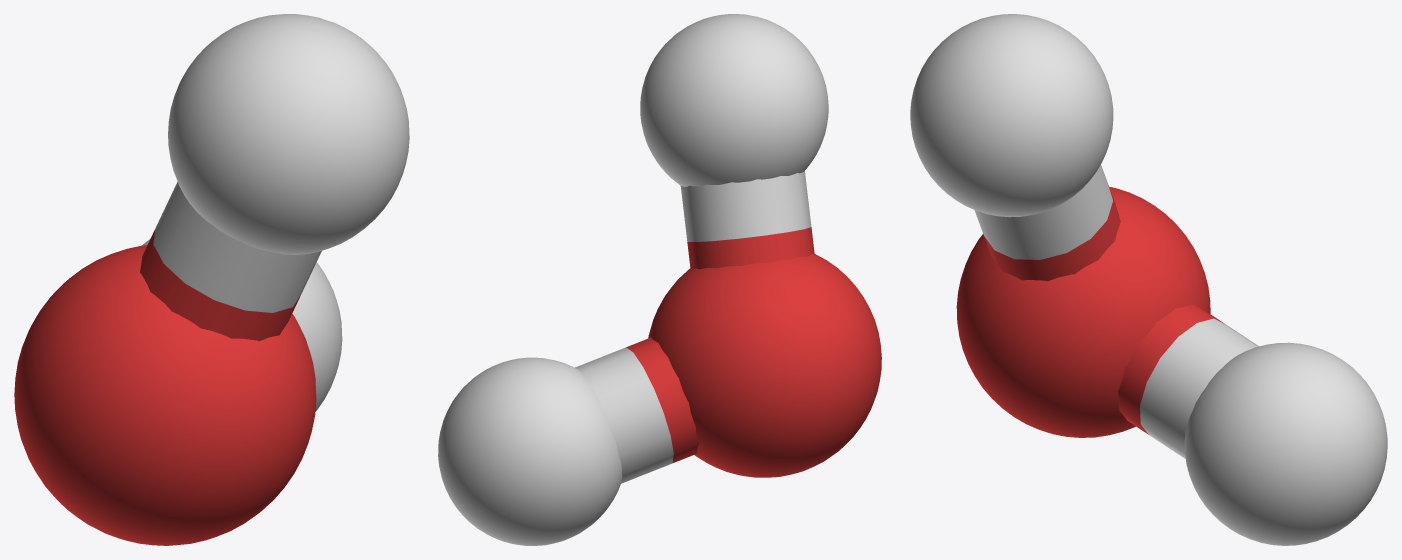
The model's file is water-bas-color-print_NIH3D.glb.
3 renders of one model, left to right at view 1: azimuth 30°, elevation 25°; view 2: azimuth 150°, elevation 25°; view 3: azimuth 270°, elevation 25°, orthographic. The views are drawn at different scales.
Visible parts, largest first — view 1: atoms; view 2: atoms; view 3: atoms.
Boxes of the visible parts, box(x1,y1,x2,y2) form: atoms: box(14, 14, 409, 545); atoms: box(438, 14, 881, 545); atoms: box(910, 14, 1387, 545).
Bounding box in the file's own units: 1.42 × 1.85 × 1.69.
